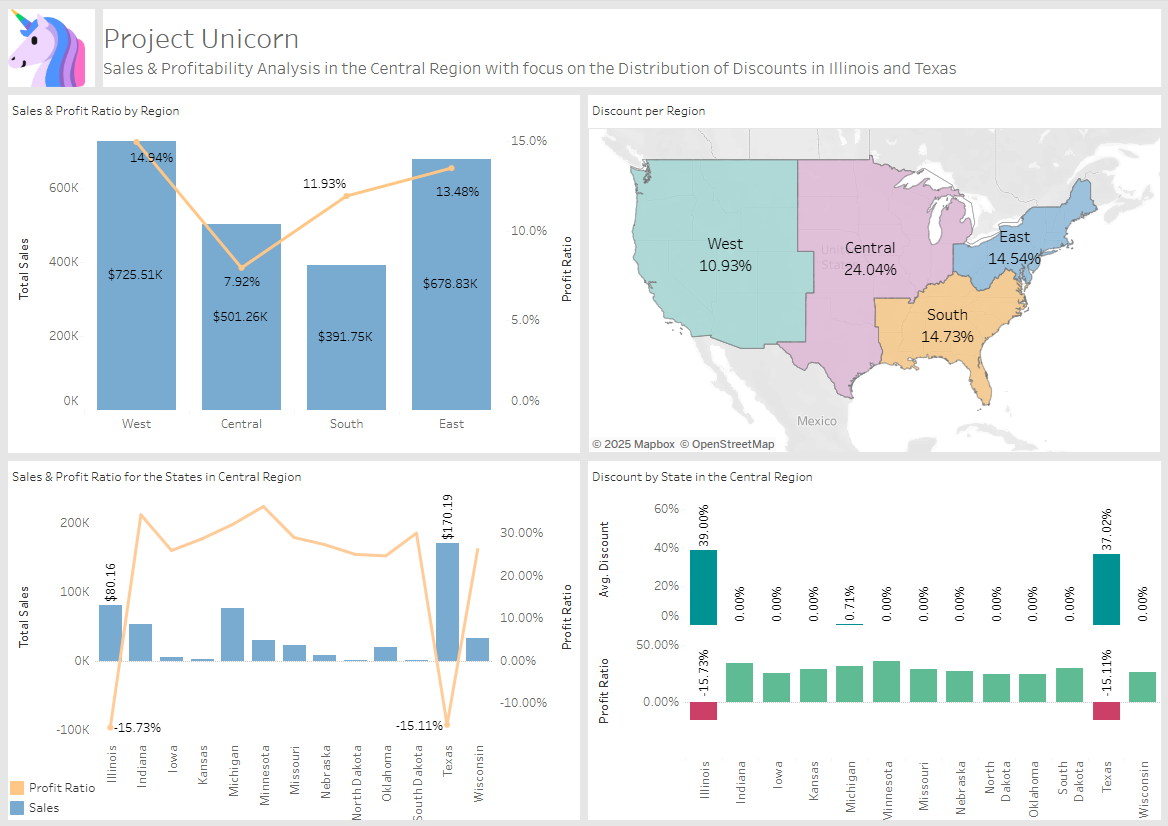

The dashboard page shown, as its layout file describes it:
{"tool":"tableau","page":{"name":"Part 1","canvas":[1169,827],"ordinal":0},"visuals":[{"type":"image","param":"Image/unicorn-emoji-2013x2048-zwviikqg.png","box":[4,4,95.4,85.6]},{"type":"text","box":[99.4,4,1065.6,85.6]},{"type":"worksheet","title":"Sales by Region","mark":"Automatic","rows":["Sales","Calculation_1890385987428171777"],"cols":["Region"],"box":[4,89.6,580.4,366.6]},{"type":"worksheet","title":"Discount per Region","mark":"Multipolygon","box":[584,90,581,366]},{"type":"worksheet","title":"Sales & Profit Ratio for the States in Central Region","mark":"Automatic","rows":["Sales","Calculation_1890385987734118402"],"cols":["State"],"box":[4,456.3,580.4,366.7]},{"type":"worksheet","title":"Discount by State in the Central Region","mark":"Automatic","rows":["Discount","Calculation_1890385987734118402"],"cols":["State"],"box":[584.4,456.3,580.6,366.7]},{"type":"legend","title":"Sales by Region","param":"[federated.170hxqj1hxj30w11hw7uu053jn2q].[:Measure Names]","box":[7,777,130,42]}]}

Visuals, with their boxes in screenshot pixels (x1, y1, x2, y2), scaled from the page's 1169x827 canvas onto the 1168x826 screenshot:
image: (4,4,99,89)
text: (99,4,1164,89)
"Sales by Region" worksheet: (4,89,584,456)
"Discount per Region" worksheet (Multipolygon marks): (584,90,1164,455)
"Sales & Profit Ratio for the States in Central Region" worksheet: (4,456,584,822)
"Discount by State in the Central Region" worksheet: (584,456,1164,822)
"Sales by Region" legend: (7,776,137,818)
